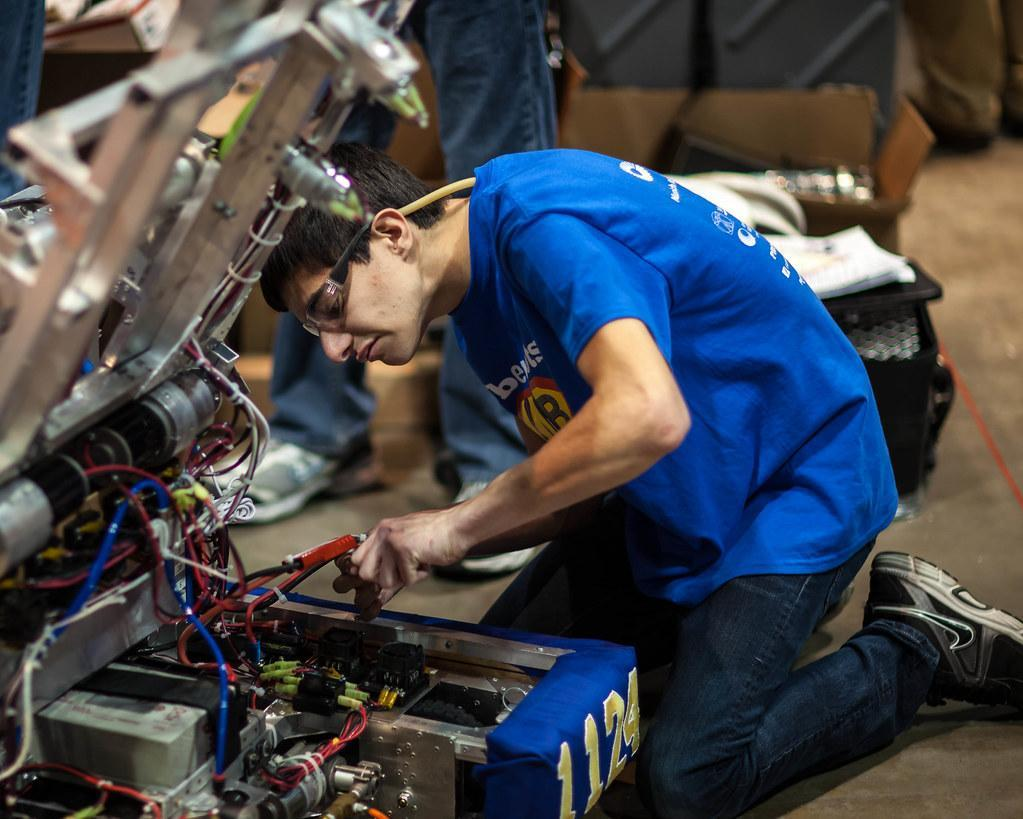robot: (0, 0, 652, 819)
